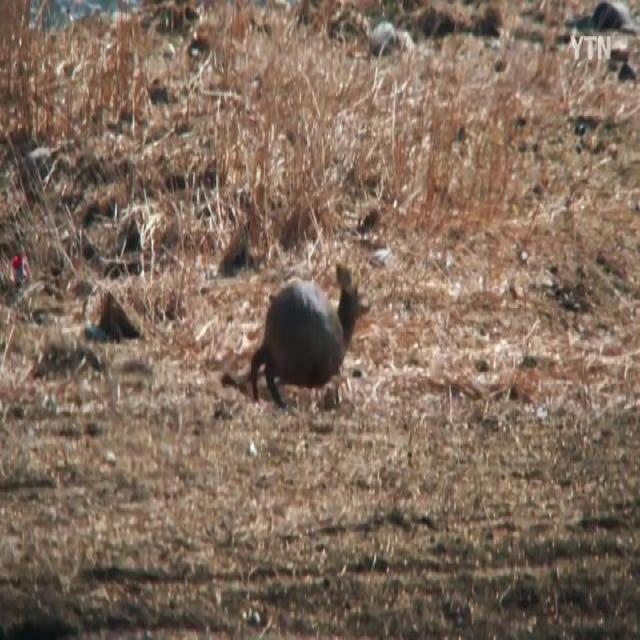deer: (251, 259, 371, 410)
